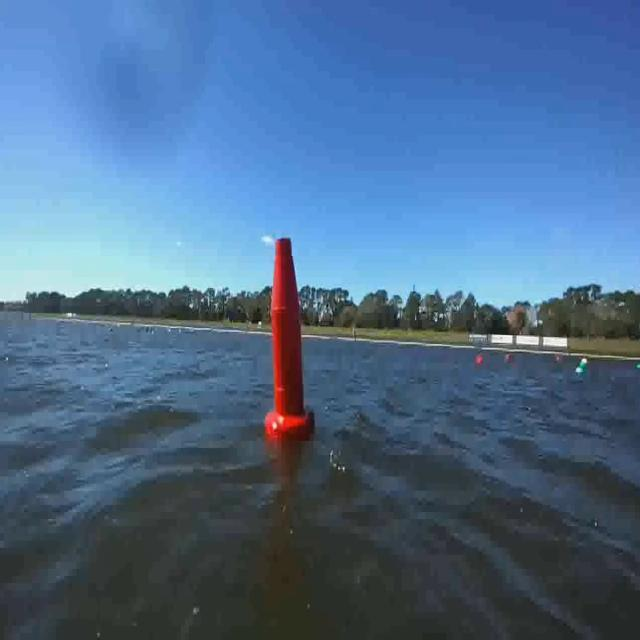green-buoy: (579, 358, 587, 371)
red-column-buoy: (266, 234, 312, 442)
